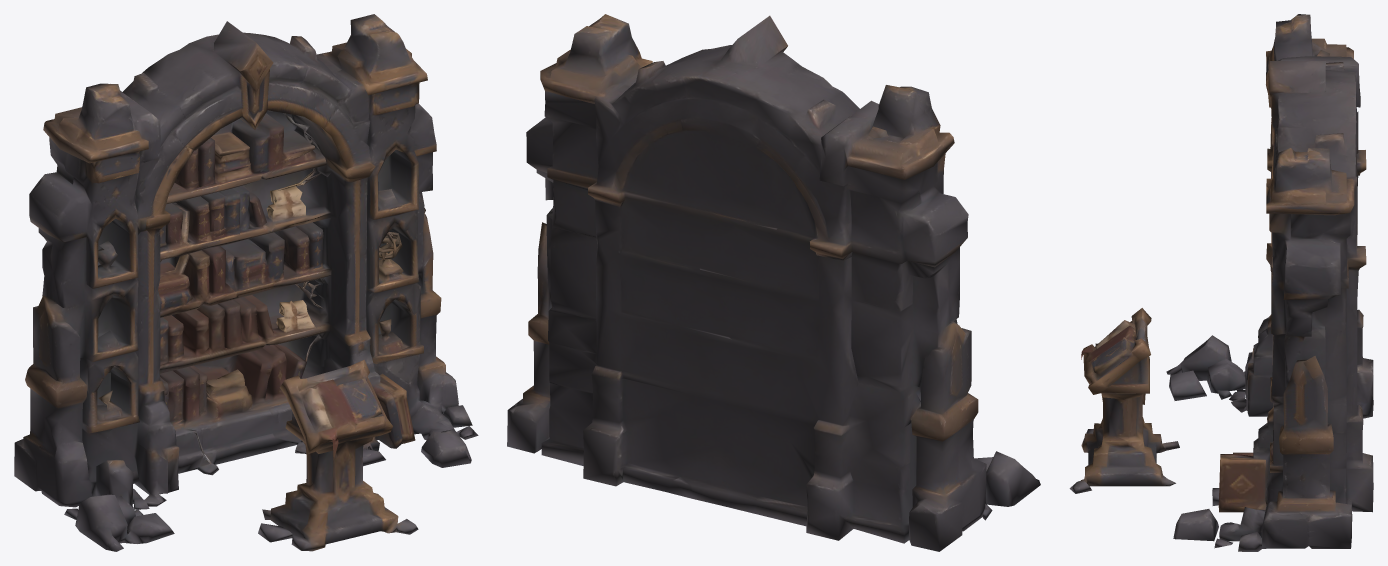
Rendered from hub_archive.glb.
3 renders of one model, left to right at view 1: azimuth 30°, elevation 25°; view 2: azimuth 150°, elevation 25°; view 3: azimuth 270°, elevation 25°, orthographic. The views are drawn at different scales.
Visible parts, largest first — view 1: tripo_node_fffc84fc-1a5d-4113-ba30-e2d097b35d43; view 2: tripo_node_fffc84fc-1a5d-4113-ba30-e2d097b35d43; view 3: tripo_node_fffc84fc-1a5d-4113-ba30-e2d097b35d43.
Part boxes in pixels (bbox=[...]): tripo_node_fffc84fc-1a5d-4113-ba30-e2d097b35d43: bbox=[14, 14, 478, 551]; tripo_node_fffc84fc-1a5d-4113-ba30-e2d097b35d43: bbox=[507, 14, 1040, 551]; tripo_node_fffc84fc-1a5d-4113-ba30-e2d097b35d43: bbox=[1069, 14, 1373, 551].
Size of the model in its own units: 0.9851 by 1 by 0.6801.
Materials: 1 (1 with a texture image).
